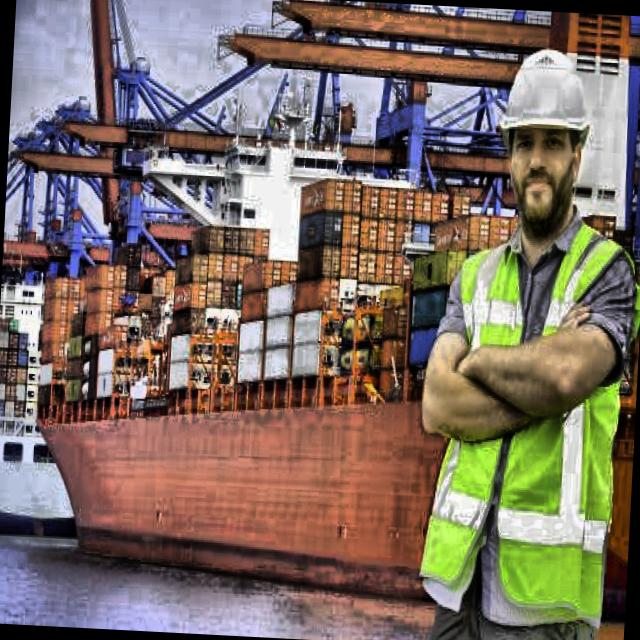helmet: (484, 34, 609, 246)
